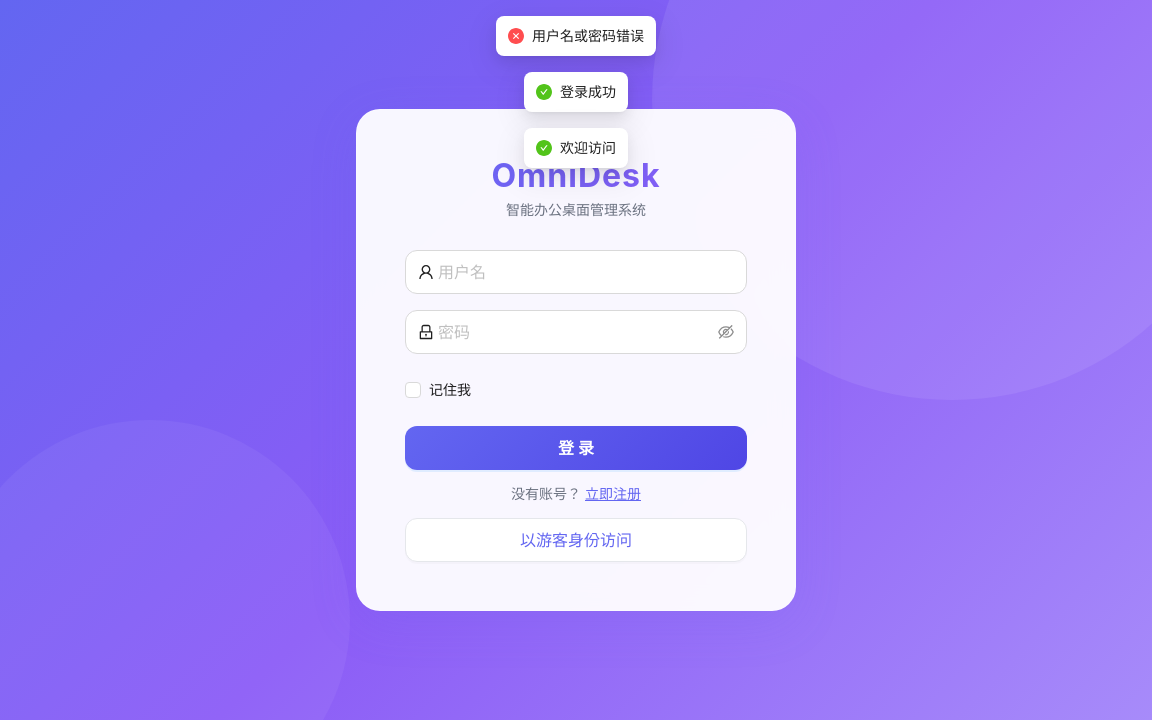
Scenario: Login Component › should handle failed guest login
The width and height of the screenshot is (1152, 720).
What coordinates should you click on to do the following:
click the button "以游客身份访问"
I would click on:
 (576, 540)
Its box is [405,518,747,562].
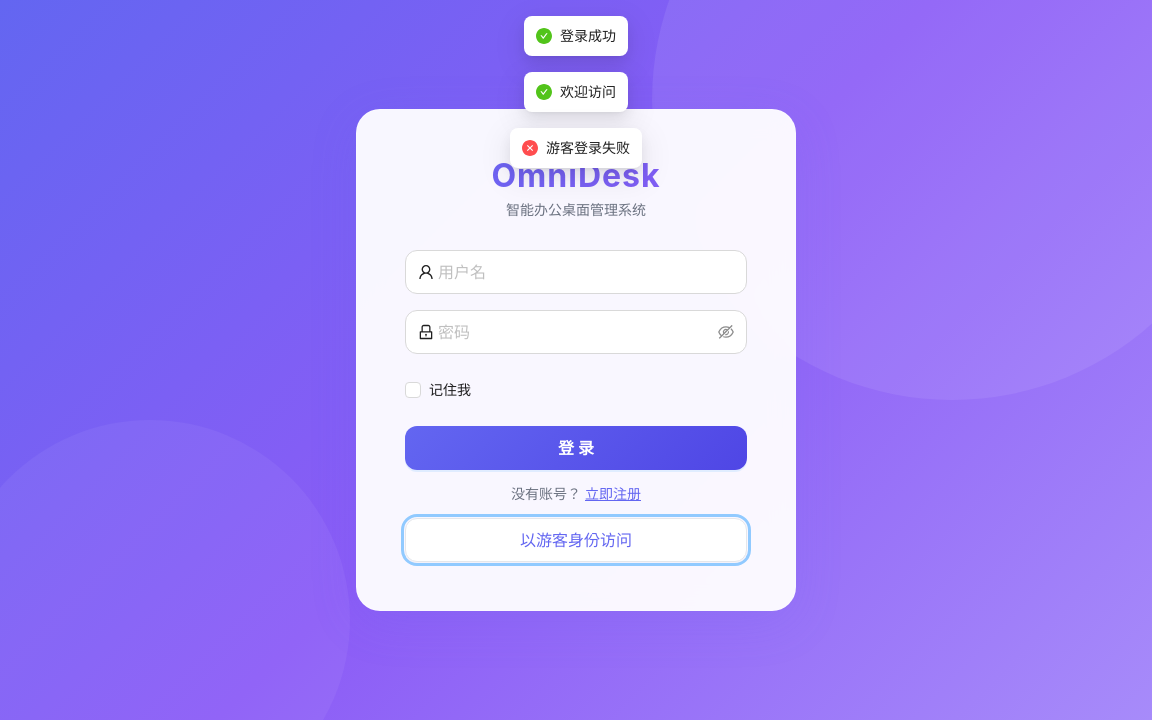
Check: the text "游客登录失败" is shown, box [546,137,630,159]
